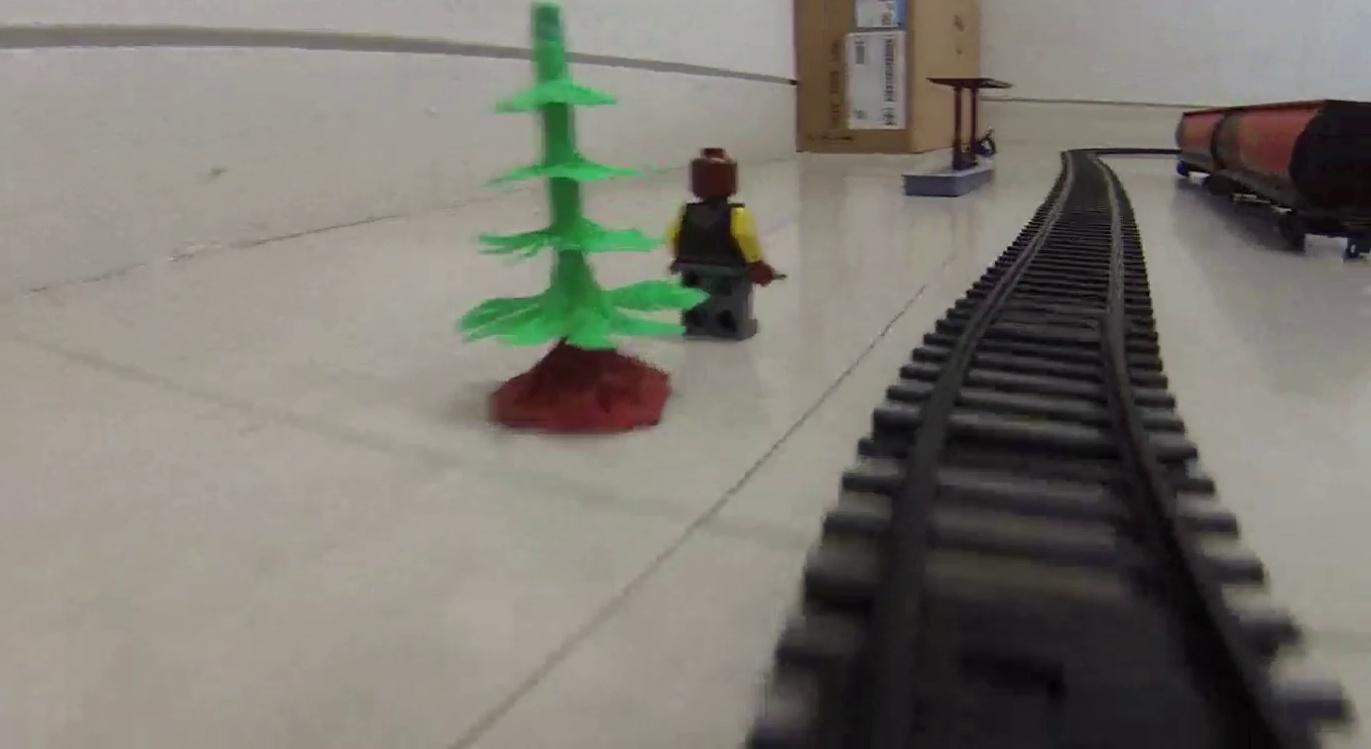people: (669, 146, 773, 342)
tree: (457, 4, 685, 431)
